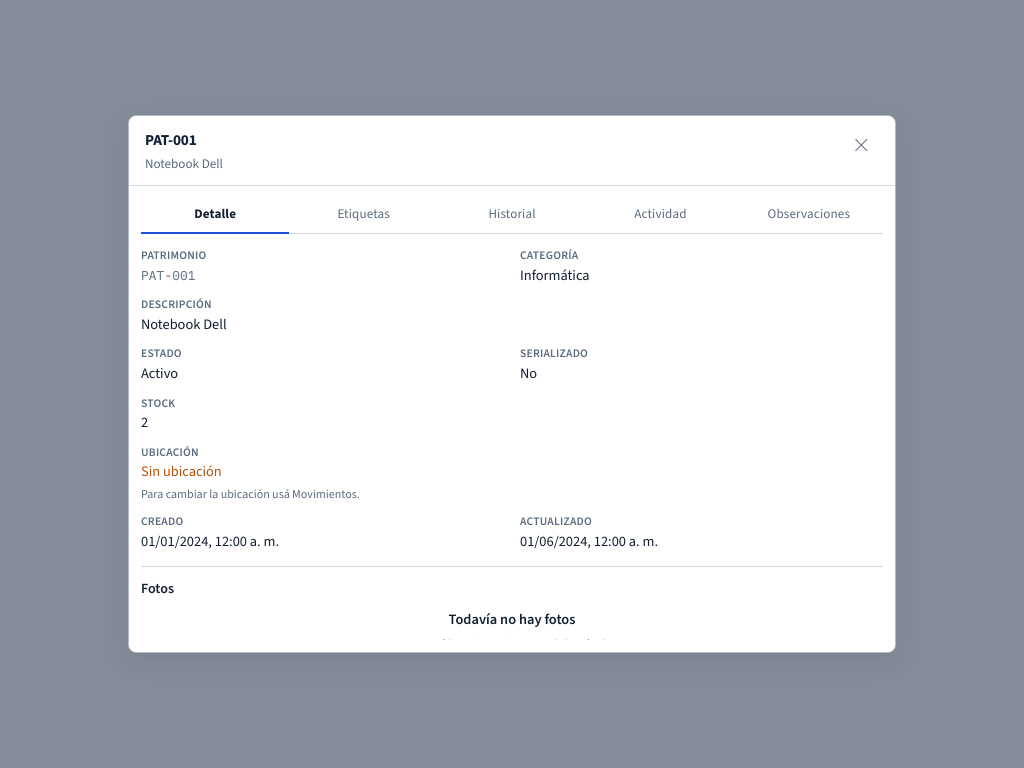
Scenario: ActivoDetalleModal › crea observación cuando hay permiso de escritura
Click the tab "Observaciones": {"x": 809, "y": 215} [735, 196, 883, 234]
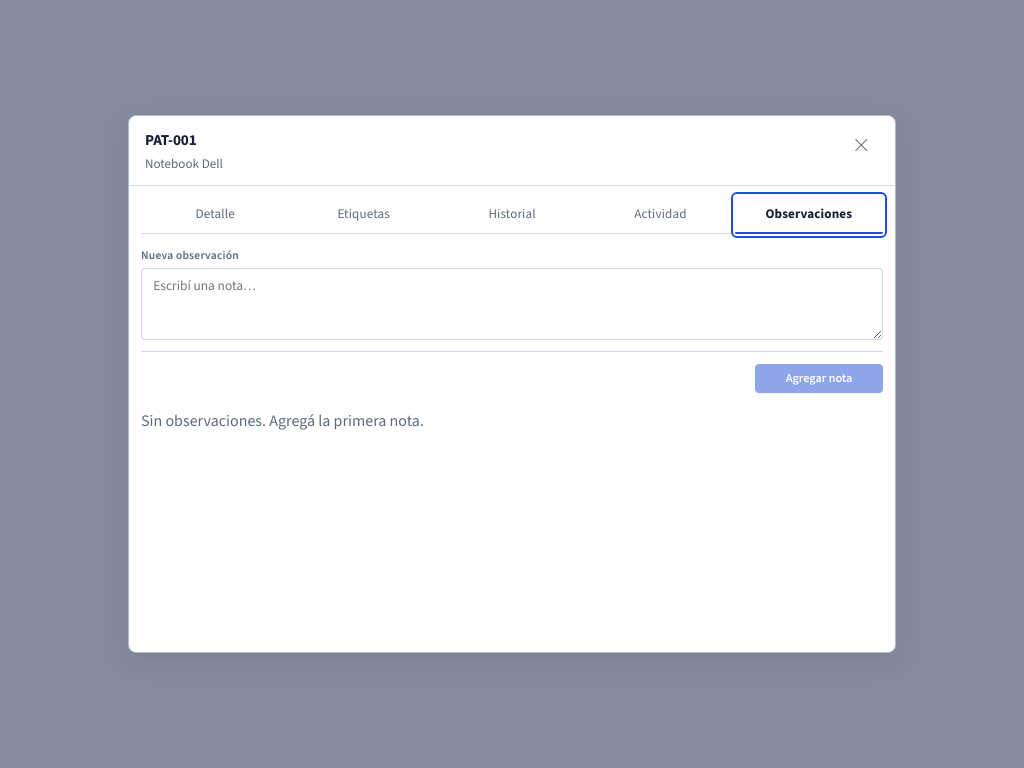
Expected: the text "Sin observaciones. Agregá la primera nota." is shown, [141, 410, 424, 431]
In the text box with placeholder "Escribí una nota…": {"x": 512, "y": 304} [141, 268, 883, 340], type "Nota de prueba"
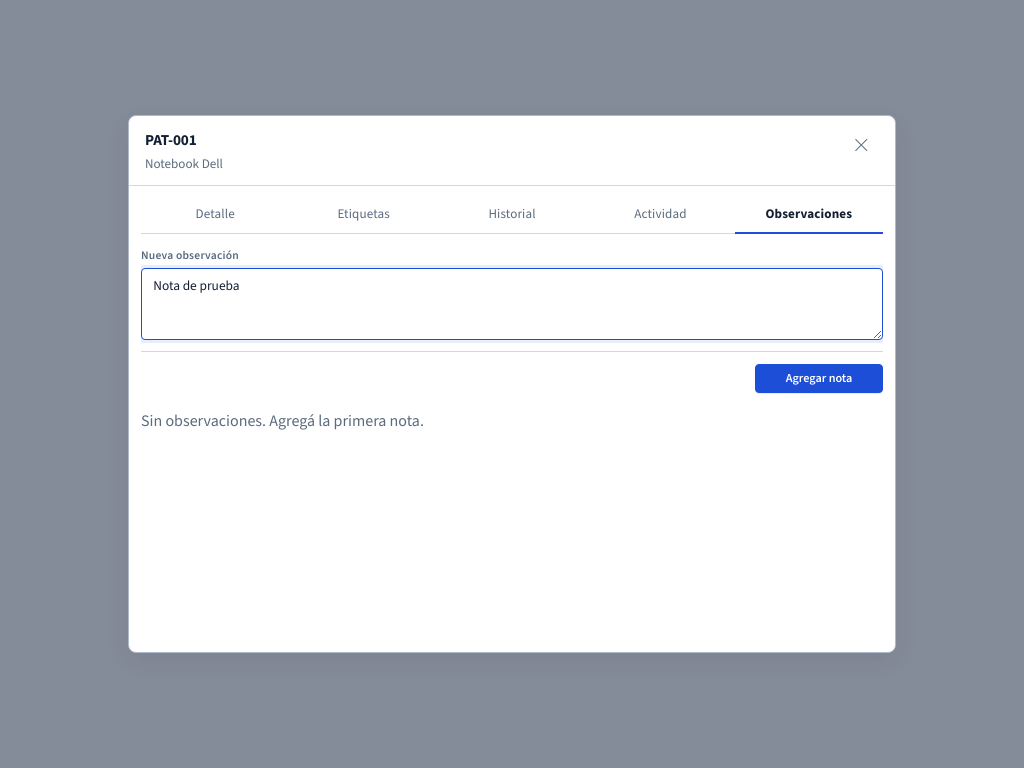
Click the button "Agregar nota": {"x": 819, "y": 379} [755, 364, 883, 394]
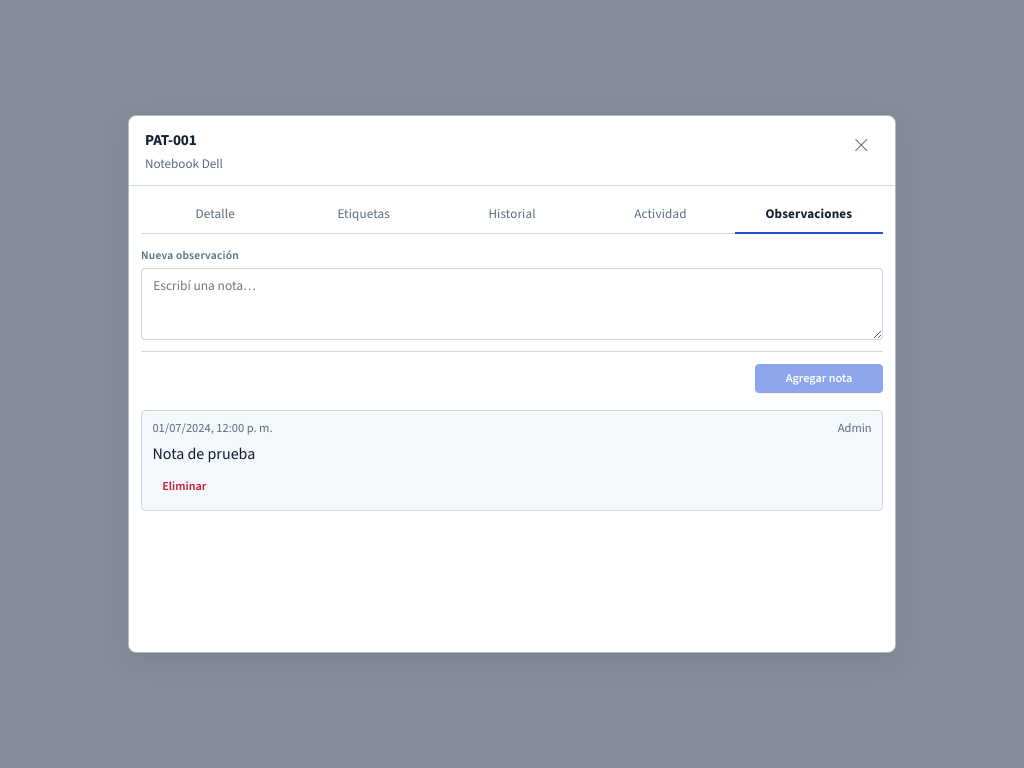
Expected: the text "Nota de prueba" is shown, [152, 443, 255, 464]
